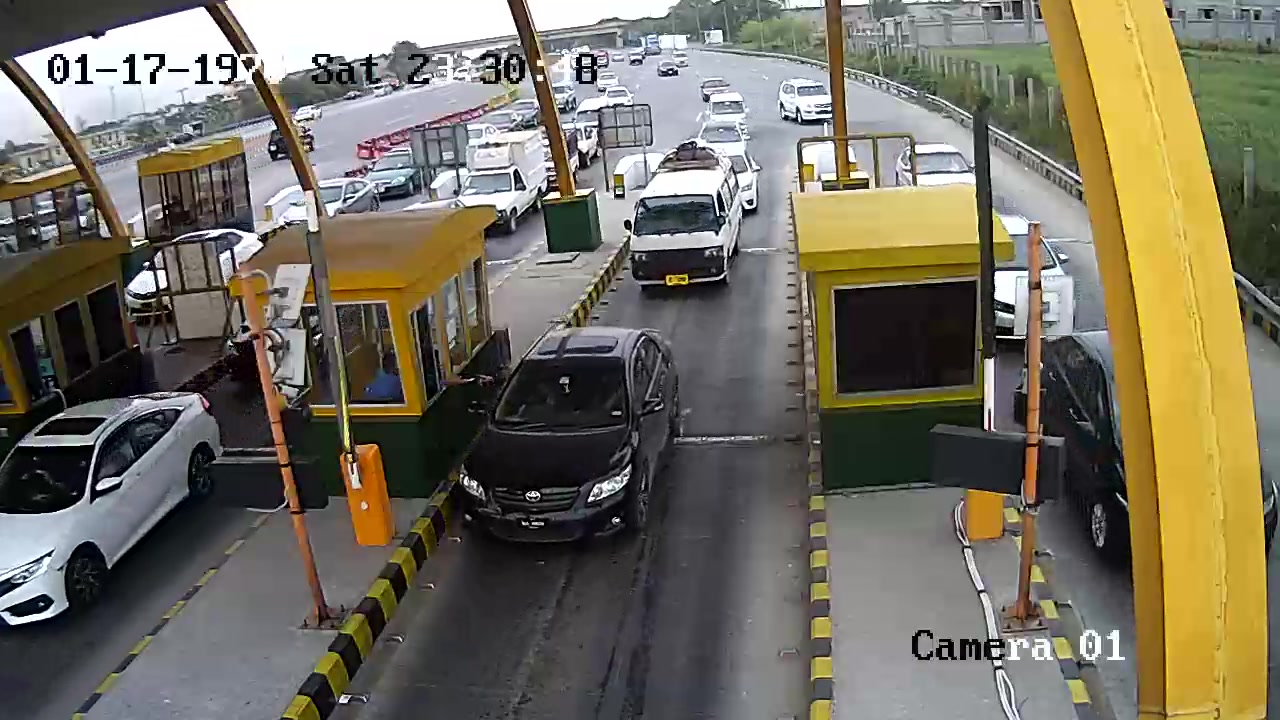F1: (447, 314, 694, 555)
